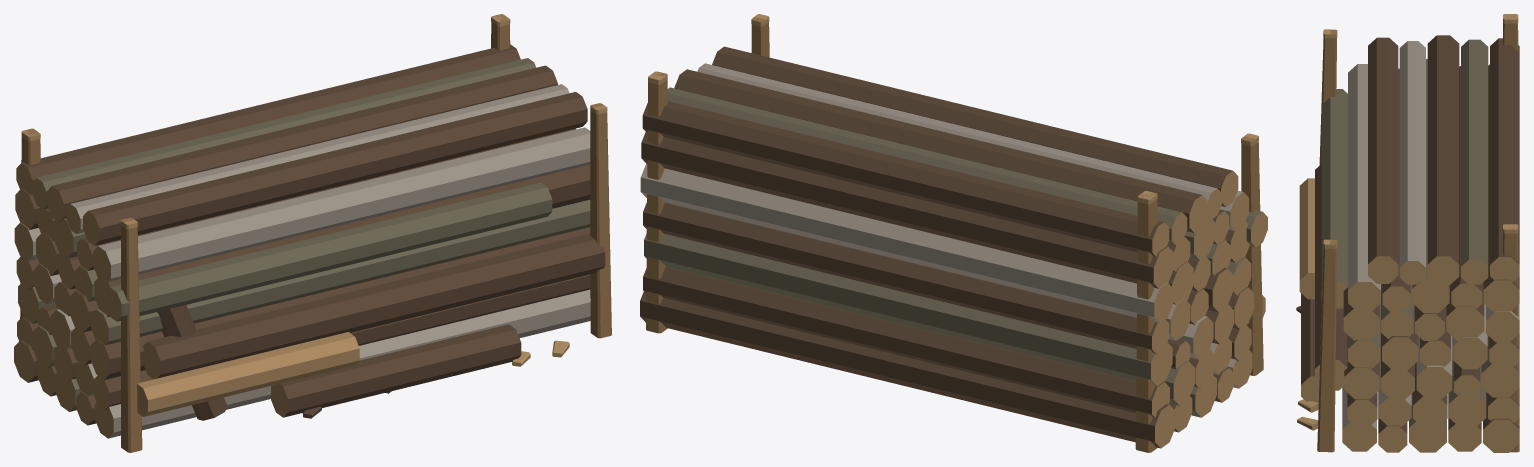
Rendered from SM_LPD_Crate_FirewoodStack_01.fbx.
The picture shows the model from 3 angles, left to right: view 1: azimuth 30°, elevation 25°; view 2: azimuth 150°, elevation 25°; view 3: azimuth 270°, elevation 25°; orthographic projection. The views are drawn at different scales.
Parts seen in each view (by area): view 1: SM_LPD_Crate_FirewoodStack_01; view 2: SM_LPD_Crate_FirewoodStack_01; view 3: SM_LPD_Crate_FirewoodStack_01.
Boxes of the visible parts, <box> form: SM_LPD_Crate_FirewoodStack_01: <box>14,14,611,452</box>; SM_LPD_Crate_FirewoodStack_01: <box>640,14,1267,452</box>; SM_LPD_Crate_FirewoodStack_01: <box>1296,14,1519,452</box>.
Bounding box in the file's own units: 1.4 × 0.6555 × 0.5974.
